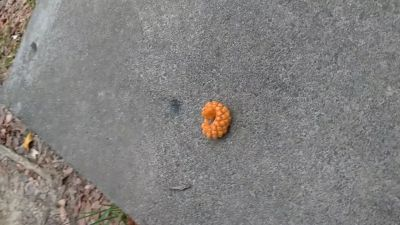eggs: (198, 100, 234, 142)
